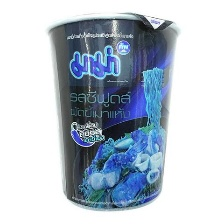paper_cup: (39, 7, 186, 213)
